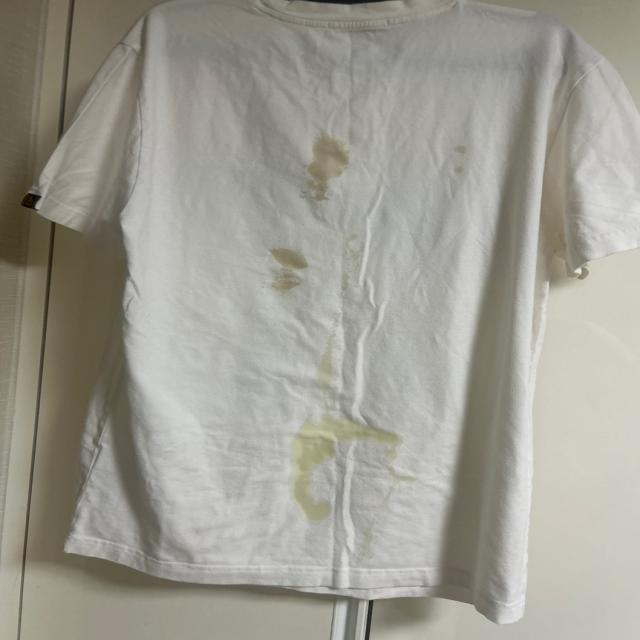stain: (288, 417, 404, 521), (301, 128, 356, 214), (316, 319, 344, 389), (276, 240, 312, 292), (443, 138, 481, 180), (335, 236, 361, 294)
